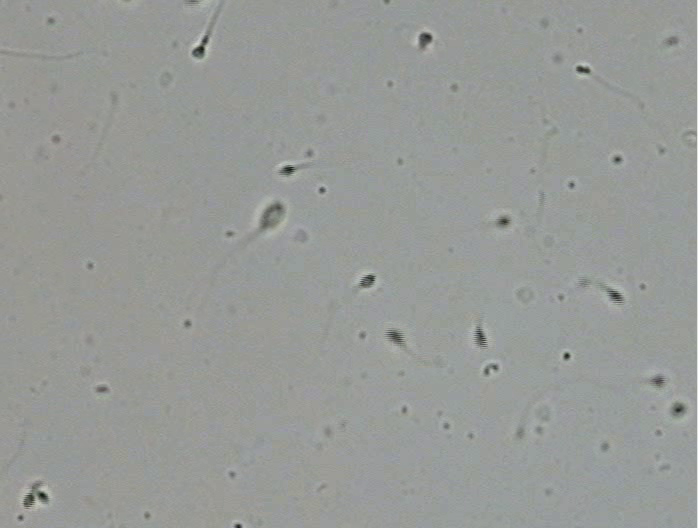S: (260, 202, 286, 230), (384, 328, 405, 347), (473, 326, 489, 349), (606, 287, 624, 305), (22, 492, 36, 509), (359, 274, 376, 288), (35, 490, 50, 505), (418, 32, 432, 46), (671, 402, 685, 416), (278, 165, 295, 176), (650, 375, 666, 386), (192, 46, 205, 59), (496, 216, 511, 227), (576, 65, 591, 74)
